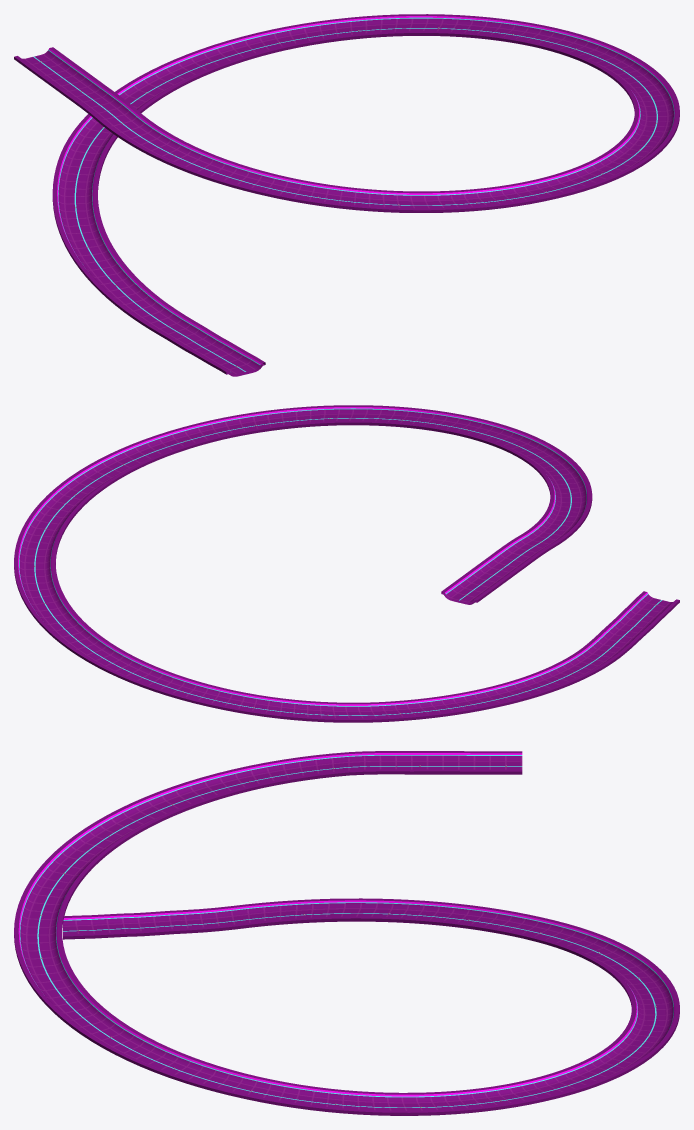
The model's file is 180_d_block_T2.fbx.
3 renders of one model, top to bottom at view 1: azimuth 30°, elevation 25°; view 2: azimuth 150°, elevation 25°; view 3: azimuth 270°, elevation 25°, orthographic. The views are drawn at different scales.
Visible parts, largest first — view 1: blue_180block_L_T2; view 2: blue_180block_L_T2; view 3: blue_180block_L_T2.
Part boxes in pixels (bbox=[...]): blue_180block_L_T2: bbox=[14, 14, 679, 376]; blue_180block_L_T2: bbox=[14, 405, 679, 722]; blue_180block_L_T2: bbox=[14, 751, 679, 1115].
Size of the model in its own units: 16212 by 4524 by 15620.
Materials: 2 (1 with a texture image).
